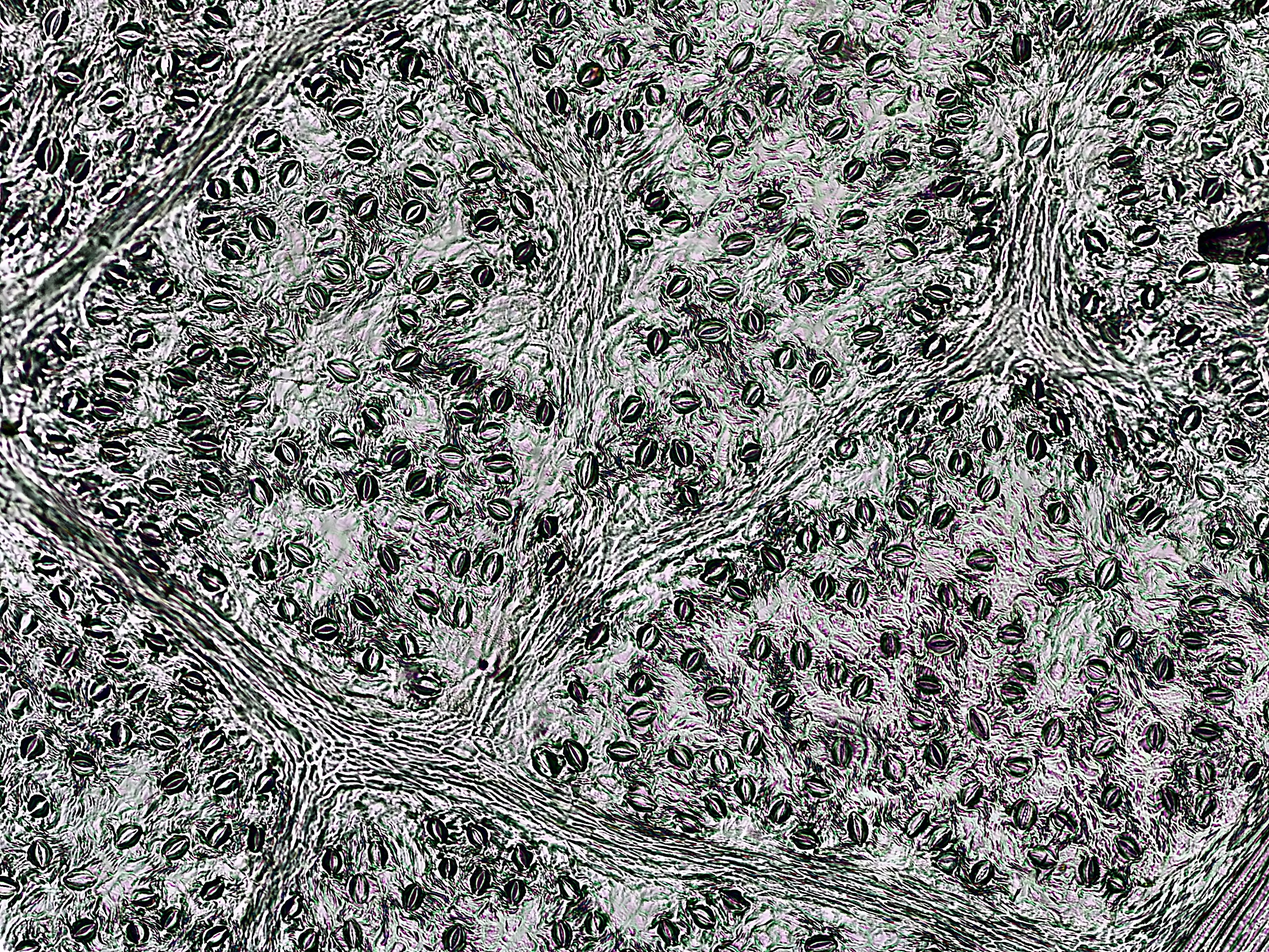stomata: (528, 745, 562, 778), (1110, 832, 1147, 862), (692, 318, 731, 345), (244, 476, 277, 507), (40, 5, 70, 39), (562, 739, 592, 773), (684, 901, 721, 928), (337, 917, 370, 947), (844, 809, 870, 847), (1019, 130, 1053, 159), (306, 477, 340, 506), (34, 137, 62, 172), (573, 451, 599, 488), (47, 327, 74, 362), (41, 427, 77, 453), (433, 444, 469, 470), (723, 42, 753, 73), (101, 366, 138, 391), (962, 61, 995, 89), (409, 587, 442, 615), (44, 686, 77, 714), (142, 476, 177, 502), (1096, 555, 1121, 591), (60, 867, 99, 890), (757, 545, 789, 573), (617, 393, 644, 426), (963, 226, 996, 253), (115, 23, 149, 49), (706, 276, 740, 302), (404, 163, 439, 188), (479, 550, 504, 585), (3, 211, 32, 241), (272, 439, 303, 467), (349, 593, 380, 621), (197, 728, 228, 756), (668, 390, 704, 414), (1194, 473, 1226, 500), (696, 557, 732, 581), (655, 916, 682, 948), (63, 751, 100, 774), (902, 454, 936, 479), (47, 583, 76, 612), (1239, 393, 1269, 421), (88, 398, 123, 422), (169, 402, 209, 423), (185, 432, 220, 456), (700, 791, 730, 819), (631, 438, 658, 469), (25, 839, 52, 870), (719, 886, 750, 913), (95, 179, 127, 205), (391, 346, 423, 372), (965, 708, 991, 740), (1024, 847, 1060, 870), (331, 97, 365, 121), (1176, 260, 1210, 284), (1221, 340, 1255, 364), (510, 190, 536, 221), (668, 437, 694, 468), (1177, 403, 1203, 434), (327, 358, 359, 383), (194, 567, 226, 592), (885, 238, 918, 262), (994, 622, 1027, 646), (1014, 799, 1038, 832), (409, 674, 442, 698), (623, 791, 659, 813), (164, 700, 200, 722), (529, 42, 558, 69), (404, 470, 433, 497), (137, 548, 166, 575), (708, 748, 735, 777), (489, 385, 515, 415), (823, 262, 853, 288), (584, 109, 610, 139), (814, 28, 844, 54), (112, 823, 142, 849), (965, 549, 1002, 570), (76, 618, 113, 639), (376, 544, 401, 575), (811, 571, 836, 602), (700, 687, 735, 709), (53, 65, 85, 89), (741, 305, 765, 337), (900, 207, 932, 231), (1221, 437, 1253, 461), (834, 208, 867, 231), (164, 366, 197, 389), (250, 214, 277, 242), (541, 86, 569, 113), (487, 495, 514, 523), (1112, 624, 1139, 652), (634, 624, 662, 651), (122, 918, 150, 945), (234, 164, 260, 193), (463, 87, 489, 116), (645, 327, 671, 356), (1199, 177, 1225, 206), (852, 497, 878, 526), (1141, 508, 1170, 534), (969, 858, 995, 887), (204, 822, 233, 848), (410, 270, 440, 295), (784, 226, 814, 251), (249, 549, 274, 579), (465, 821, 490, 851), (46, 199, 70, 230), (345, 137, 376, 161), (319, 258, 350, 282), (284, 543, 315, 567), (879, 148, 911, 171), (1195, 26, 1227, 49), (720, 233, 755, 254), (927, 138, 962, 159), (822, 115, 850, 141), (794, 526, 822, 552), (86, 675, 112, 703), (556, 874, 582, 902), (439, 925, 467, 951), (449, 363, 478, 388), (1123, 492, 1152, 517), (583, 622, 608, 651), (850, 675, 875, 704), (278, 159, 302, 189), (398, 50, 422, 80), (1198, 130, 1228, 154), (1048, 408, 1072, 438), (1196, 793, 1220, 823), (426, 815, 450, 845), (1141, 118, 1175, 139), (881, 545, 915, 566), (1075, 450, 1098, 481), (1023, 430, 1046, 461), (172, 514, 203, 537), (739, 728, 762, 759), (846, 578, 868, 610), (89, 582, 121, 604), (482, 452, 519, 471), (604, 740, 641, 759), (302, 199, 329, 225), (547, 1, 573, 28), (541, 551, 567, 578), (5, 689, 31, 716), (161, 833, 188, 859), (97, 90, 125, 115), (67, 154, 92, 182), (576, 62, 604, 87), (1011, 30, 1031, 65), (1195, 361, 1220, 389), (59, 391, 87, 416), (1185, 595, 1220, 615), (925, 633, 960, 653), (13, 607, 38, 635), (664, 275, 693, 299), (968, 0, 992, 29), (1104, 424, 1128, 453), (135, 522, 164, 546), (823, 657, 847, 686), (924, 739, 948, 768), (123, 682, 152, 706), (109, 720, 133, 749), (160, 771, 189, 795), (468, 866, 492, 895), (467, 160, 497, 183), (704, 134, 734, 157), (864, 53, 894, 76), (1129, 224, 1159, 247), (1153, 653, 1176, 683), (755, 190, 786, 212), (1212, 97, 1243, 119), (324, 428, 355, 450), (356, 472, 378, 503), (850, 326, 884, 346), (728, 102, 754, 128), (1051, 3, 1077, 29), (1186, 62, 1212, 88), (304, 281, 329, 308), (401, 198, 428, 223), (512, 238, 537, 265), (947, 449, 972, 476), (929, 504, 956, 529), (54, 643, 79, 670), (400, 882, 425, 909), (309, 75, 333, 103), (442, 294, 474, 315), (1105, 146, 1137, 167), (1082, 230, 1110, 254), (975, 475, 999, 503), (1044, 501, 1072, 525), (183, 342, 215, 363), (766, 501, 794, 525), (1248, 551, 1269, 583), (747, 634, 771, 662), (1079, 855, 1100, 887), (789, 828, 821, 849), (625, 702, 657, 723), (346, 874, 370, 902), (252, 128, 281, 151), (1104, 96, 1133, 119), (243, 823, 266, 852), (68, 918, 97, 941), (319, 846, 342, 875), (802, 934, 841, 951), (363, 257, 393, 279), (660, 212, 690, 234), (360, 408, 386, 433), (1153, 32, 1178, 58), (679, 648, 705, 673), (1099, 783, 1124, 809), (626, 670, 652, 695), (253, 767, 278, 793), (26, 793, 51, 819), (112, 126, 136, 153), (682, 99, 706, 126), (807, 361, 831, 388), (828, 517, 852, 544), (881, 755, 905, 782), (395, 632, 419, 659), (18, 734, 45, 758), (969, 191, 997, 214), (866, 351, 894, 374), (897, 405, 920, 433), (361, 646, 384, 674), (511, 842, 534, 870), (945, 109, 977, 129), (935, 175, 964, 197), (127, 238, 156, 260), (788, 640, 810, 669), (101, 262, 131, 283), (98, 440, 128, 461), (451, 597, 472, 627), (450, 547, 471, 577), (736, 440, 766, 461), (803, 776, 833, 797), (1091, 694, 1124, 713), (765, 83, 790, 108), (353, 193, 377, 219), (809, 82, 835, 106), (1161, 178, 1187, 202), (1077, 291, 1101, 317), (939, 399, 963, 425), (675, 484, 701, 508), (896, 494, 920, 520), (666, 744, 692, 768), (397, 106, 424, 129), (642, 188, 669, 211), (622, 107, 645, 134), (671, 595, 694, 622), (1049, 810, 1076, 833), (671, 32, 691, 63), (1042, 716, 1062, 747), (140, 631, 171, 651), (127, 327, 155, 349), (608, 42, 630, 70), (741, 379, 763, 407), (724, 581, 752, 603), (380, 29, 409, 50), (624, 229, 653, 250), (1116, 184, 1145, 205), (308, 618, 340, 637), (1201, 686, 1233, 705), (31, 555, 63, 574), (265, 327, 295, 347), (840, 158, 865, 182), (921, 333, 945, 358), (177, 668, 207, 688), (148, 730, 178, 750), (220, 238, 246, 261), (1240, 759, 1263, 785), (927, 827, 953, 850), (365, 841, 388, 867), (203, 293, 236, 311), (148, 276, 175, 298), (1175, 324, 1202, 346), (197, 474, 224, 496), (1144, 723, 1166, 750), (199, 879, 226, 901), (921, 284, 952, 303), (533, 399, 554, 427), (981, 424, 1002, 452), (937, 581, 958, 609), (905, 707, 933, 728), (673, 814, 701, 835), (551, 920, 572, 948), (202, 6, 231, 26), (1024, 373, 1044, 402), (1159, 782, 1179, 811), (1099, 320, 1123, 344), (154, 130, 177, 155), (471, 263, 494, 288), (1140, 70, 1165, 93), (385, 444, 410, 467), (213, 772, 238, 795), (583, 911, 606, 936), (969, 595, 991, 621), (878, 631, 900, 657), (906, 809, 928, 835), (238, 394, 268, 413), (1231, 372, 1261, 391), (912, 675, 942, 694), (473, 209, 500, 230), (1082, 659, 1109, 680), (1192, 720, 1219, 741), (830, 737, 850, 765), (1135, 14, 1158, 38), (1241, 154, 1264, 178), (834, 437, 858, 460), (100, 498, 124, 521), (768, 799, 791, 823), (1003, 756, 1032, 775), (1210, 526, 1235, 548), (205, 178, 231, 199), (478, 421, 504, 442), (426, 500, 452, 521), (278, 595, 299, 621), (734, 777, 755, 803), (281, 893, 302, 919), (504, 879, 525, 905), (225, 350, 255, 368), (1142, 283, 1162, 310), (998, 683, 1025, 703), (907, 303, 930, 326), (537, 514, 560, 537), (160, 907, 182, 931), (961, 781, 982, 806), (203, 925, 229, 945), (197, 52, 224, 71), (87, 306, 117, 323), (644, 84, 666, 107), (1135, 426, 1158, 448), (565, 680, 588, 702), (773, 347, 797, 368), (1146, 462, 1174, 480), (394, 308, 419, 328), (171, 89, 197, 108), (157, 52, 176, 78), (770, 689, 793, 710), (1046, 576, 1070, 596), (934, 851, 958, 871), (296, 931, 320, 951), (1013, 661, 1038, 680), (198, 216, 224, 234), (1179, 632, 1208, 648), (786, 282, 807, 304), (454, 403, 477, 423), (129, 889, 156, 906), (1076, 568, 1100, 587), (935, 89, 960, 107), (1221, 658, 1246, 676), (101, 652, 131, 667), (438, 857, 458, 879), (505, 0, 528, 19), (899, 0, 928, 15), (344, 54, 362, 78), (1196, 759, 1214, 783), (1094, 736, 1115, 755), (1105, 873, 1126, 891), (1254, 512, 1269, 537)
